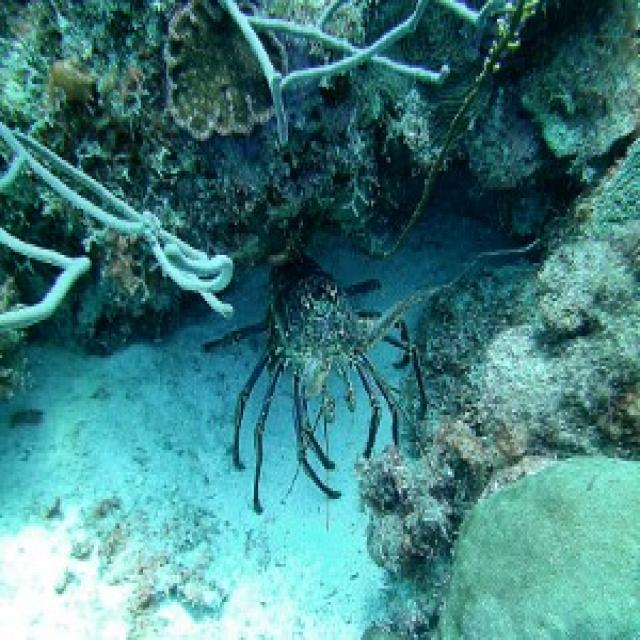lobsters: (168, 65, 491, 509)
